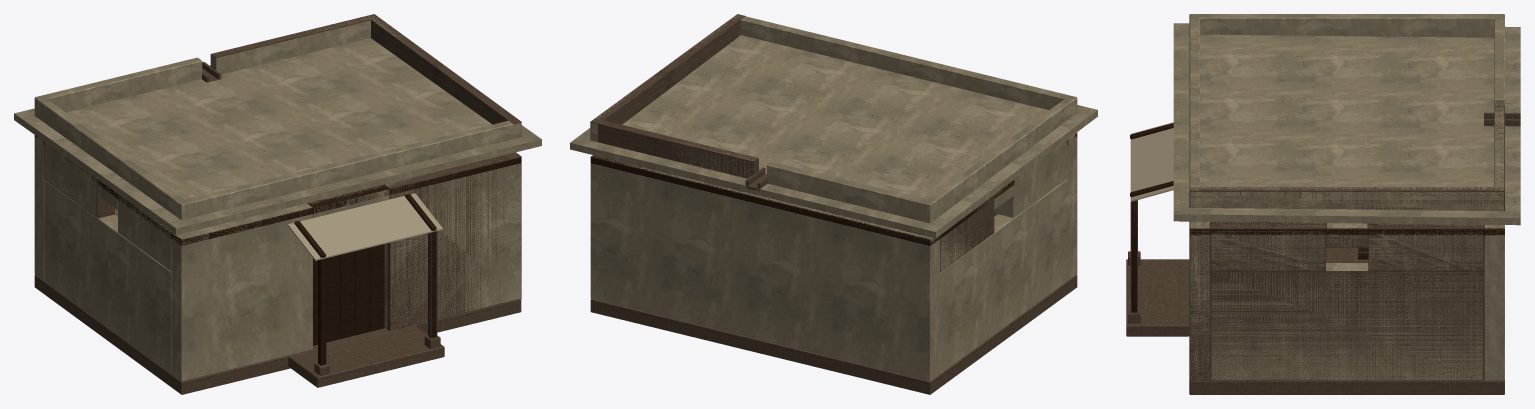
File: d_store_8x6.glb
3 views of the same model, side by side, from view 1: azimuth 30°, elevation 25°; view 2: azimuth 150°, elevation 25°; view 3: azimuth 270°, elevation 25° (orthographic). The views are drawn at different scales.
Visible parts, largest first — view 1: front wall, front wall-colonly.001, foundation, ceiling, entry shade, side parapet-colonly.001, Door plank.003, Door plank.004, Door plank.002, Door plank.001, rear parapet-colonly.001, canopy post-colonly.001 (+1 smaller); view 2: front wall, foundation, rear parapet-colonly.001, side parapet-colonly.001, ceiling, side wall upper-colonly.001; view 3: front wall, side wall base-colonly.001, foundation, side wall upper-colonly.002, side wall upper-colonly.003, side parapet-colonly.001, ceiling, front wall-colonly.001, entry shade, louver head-colonly.001, rear parapet-colonly.001, canopy post-colonly.001.
Part boxes in pixels (x1,y1,x2,y2): front wall: [14, 15, 541, 381]; front wall-colonly.001: [384, 152, 521, 330]; foundation: [34, 62, 521, 394]; ceiling: [34, 135, 521, 365]; entry shade: [288, 193, 442, 260]; side parapet-colonly.001: [368, 14, 521, 136]; Door plank.003: [354, 248, 369, 335]; Door plank.004: [369, 244, 384, 331]; Door plank.002: [340, 251, 354, 338]; Door plank.001: [326, 255, 339, 342]; rear parapet-colonly.001: [210, 14, 377, 70]; canopy post-colonly.001: [428, 231, 437, 338]; front wall: [570, 14, 1097, 381]; foundation: [590, 167, 1077, 394]; rear parapet-colonly.001: [590, 118, 758, 178]; side parapet-colonly.001: [594, 14, 745, 124]; ceiling: [590, 133, 1077, 245]; side wall upper-colonly.001: [940, 195, 994, 272]; front wall: [1173, 14, 1520, 380]; side wall base-colonly.001: [1210, 262, 1483, 380]; foundation: [1126, 112, 1520, 394]; side wall upper-colonly.002: [1210, 222, 1325, 271]; side wall upper-colonly.003: [1368, 223, 1483, 271]; side parapet-colonly.001: [1189, 187, 1504, 211]; ceiling: [1130, 123, 1504, 312]; front wall-colonly.001: [1189, 221, 1210, 380]; entry shade: [1130, 122, 1173, 201]; louver head-colonly.001: [1326, 223, 1368, 247]; rear parapet-colonly.001: [1494, 106, 1504, 211]; canopy post-colonly.001: [1130, 200, 1137, 312].
Size of what is drawn, in the model's own units: 8.6 by 4.28 by 7.5.
Materials: 6 (3 with a texture image).
